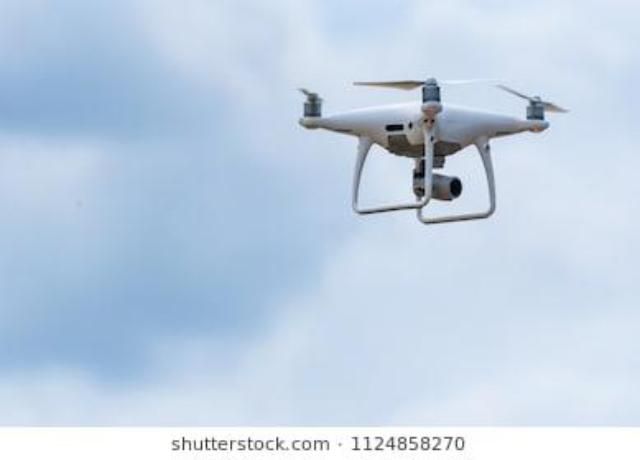drone: (288, 50, 584, 250)
